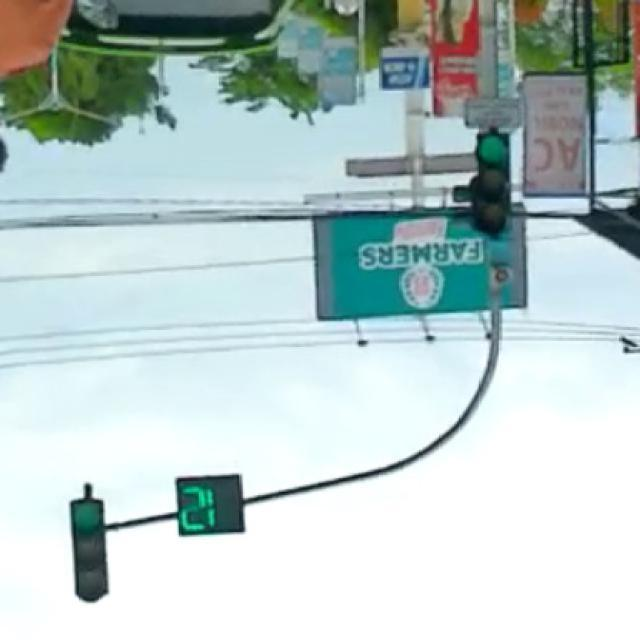green_light: (66, 492, 114, 604), (478, 124, 520, 243)
